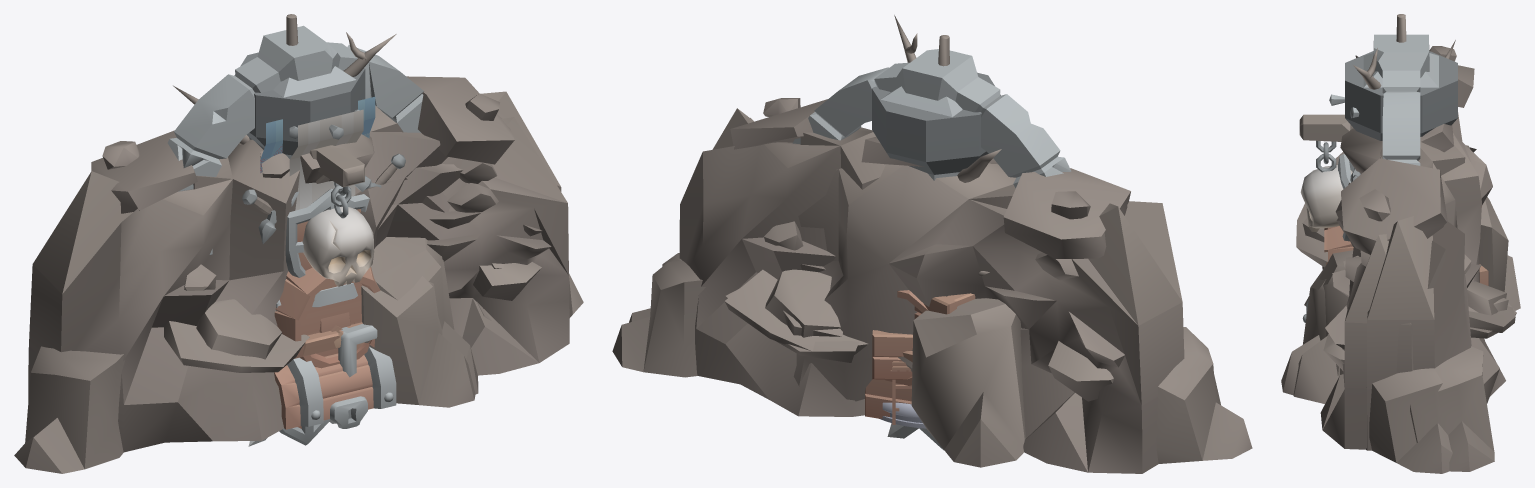
File: env.glb
3 renders of one model, left to right at view 1: azimuth 30°, elevation 25°; view 2: azimuth 150°, elevation 25°; view 3: azimuth 270°, elevation 25°, orthographic. The views are drawn at different scales.
Visible parts, largest first — view 1: rubble_large, rubble_half, arch, chest_lid, pillar_decorated, post_skull, keg, d_pillar, banner_blue, tree_dead_large, crates_stacked, barrel_large (+3 smaller); view 2: rubble_large, rubble_half, arch, d_pillar, crates_stacked, tree_dead_large, pillar_decorated, pillar, fountain-round; view 3: rubble_half, rubble_large, arch, d_pillar, post_skull, pillar_decorated, pillar, tree_dead_large, keg.
Part boxes in pixels (box(x1,y1,x2,y2)): rubble_large: box(14, 117, 583, 473); rubble_half: box(354, 76, 561, 394); arch: box(167, 25, 423, 255); chest_lid: box(274, 346, 396, 429); pillar_decorated: box(241, 58, 405, 277); post_skull: box(302, 145, 374, 286); keg: box(274, 266, 380, 368); d_pillar: box(234, 52, 365, 158); banner_blue: box(260, 96, 375, 172); tree_dead_large: box(173, 14, 396, 144); crates_stacked: box(338, 324, 377, 377); barrel_large: box(312, 283, 357, 333); rubble_large: box(629, 118, 1252, 473); rubble_half: box(612, 98, 885, 416); arch: box(792, 49, 1071, 188); d_pillar: box(872, 80, 1000, 176); crates_stacked: box(865, 293, 975, 418); tree_dead_large: box(894, 15, 1001, 182); pillar_decorated: box(872, 72, 993, 180); pillar: box(881, 86, 962, 116); fountain-round: box(879, 402, 926, 428); rubble_half: box(1293, 142, 1515, 471); rubble_large: box(1281, 46, 1520, 473); arch: box(1373, 34, 1429, 165); d_pillar: box(1345, 51, 1457, 140); post_skull: box(1299, 114, 1353, 231); pillar_decorated: box(1329, 57, 1457, 241); pillar: box(1363, 53, 1438, 87); tree_dead_large: box(1353, 14, 1455, 89); keg: box(1324, 226, 1353, 261).
Size of the model in its own units: 8.13 by 5.61 by 3.18.
